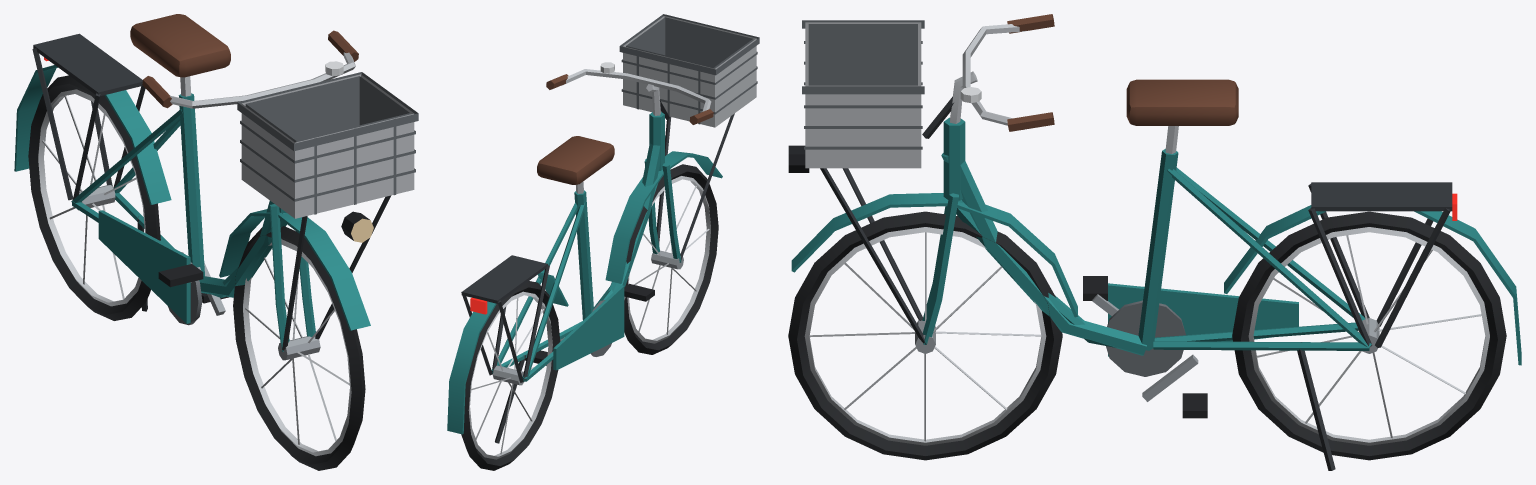
File: SC_Veh_Bicycle_City.gltf
3 renders of one model, left to right at view 1: azimuth 30°, elevation 25°; view 2: azimuth 150°, elevation 25°; view 3: azimuth 270°, elevation 25°, orthographic. The views are drawn at different scales.
Parts seen in each view (by area): view 1: SC_Veh_Bicycle_City; view 2: SC_Veh_Bicycle_City; view 3: SC_Veh_Bicycle_City.
Boxes of the visible parts, x1,y1,x2,y2 form: SC_Veh_Bicycle_City: (14,14,418,470); SC_Veh_Bicycle_City: (447,14,759,470); SC_Veh_Bicycle_City: (788,14,1521,470).
Size of the model in its own units: 0.5894 by 1.08 by 1.77.
2 materials, 2 textured.
